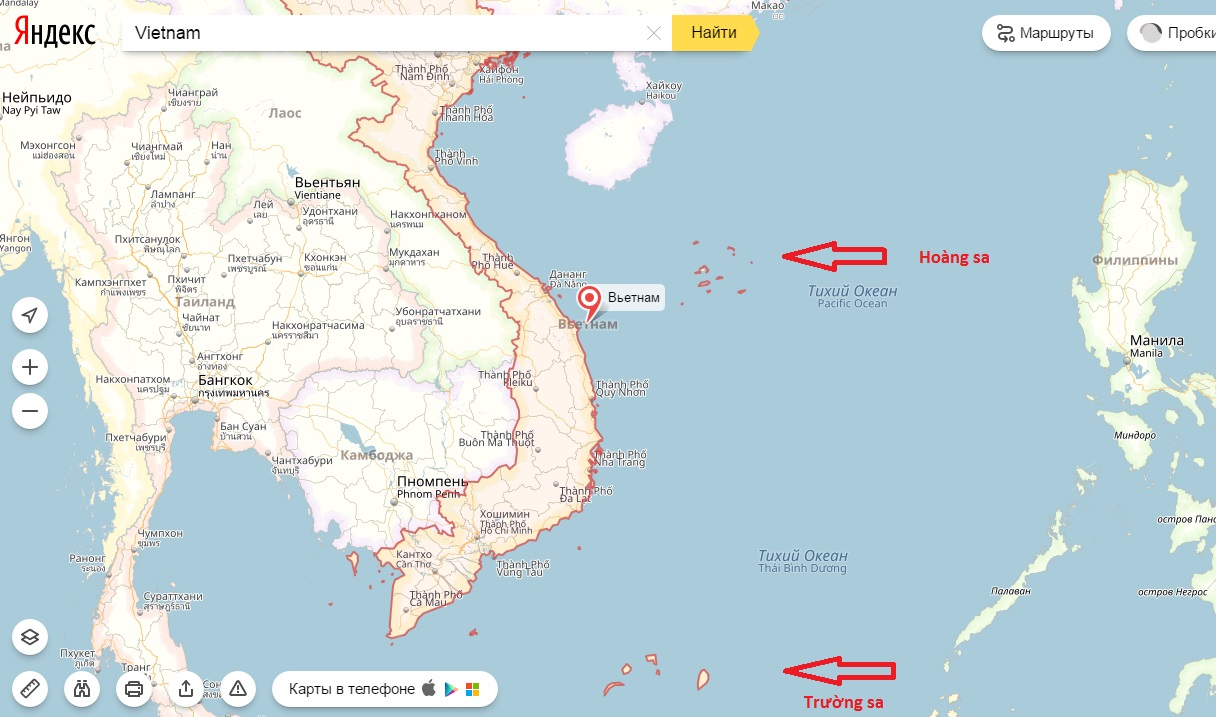Island: (586, 637, 729, 713), (674, 222, 768, 334)
